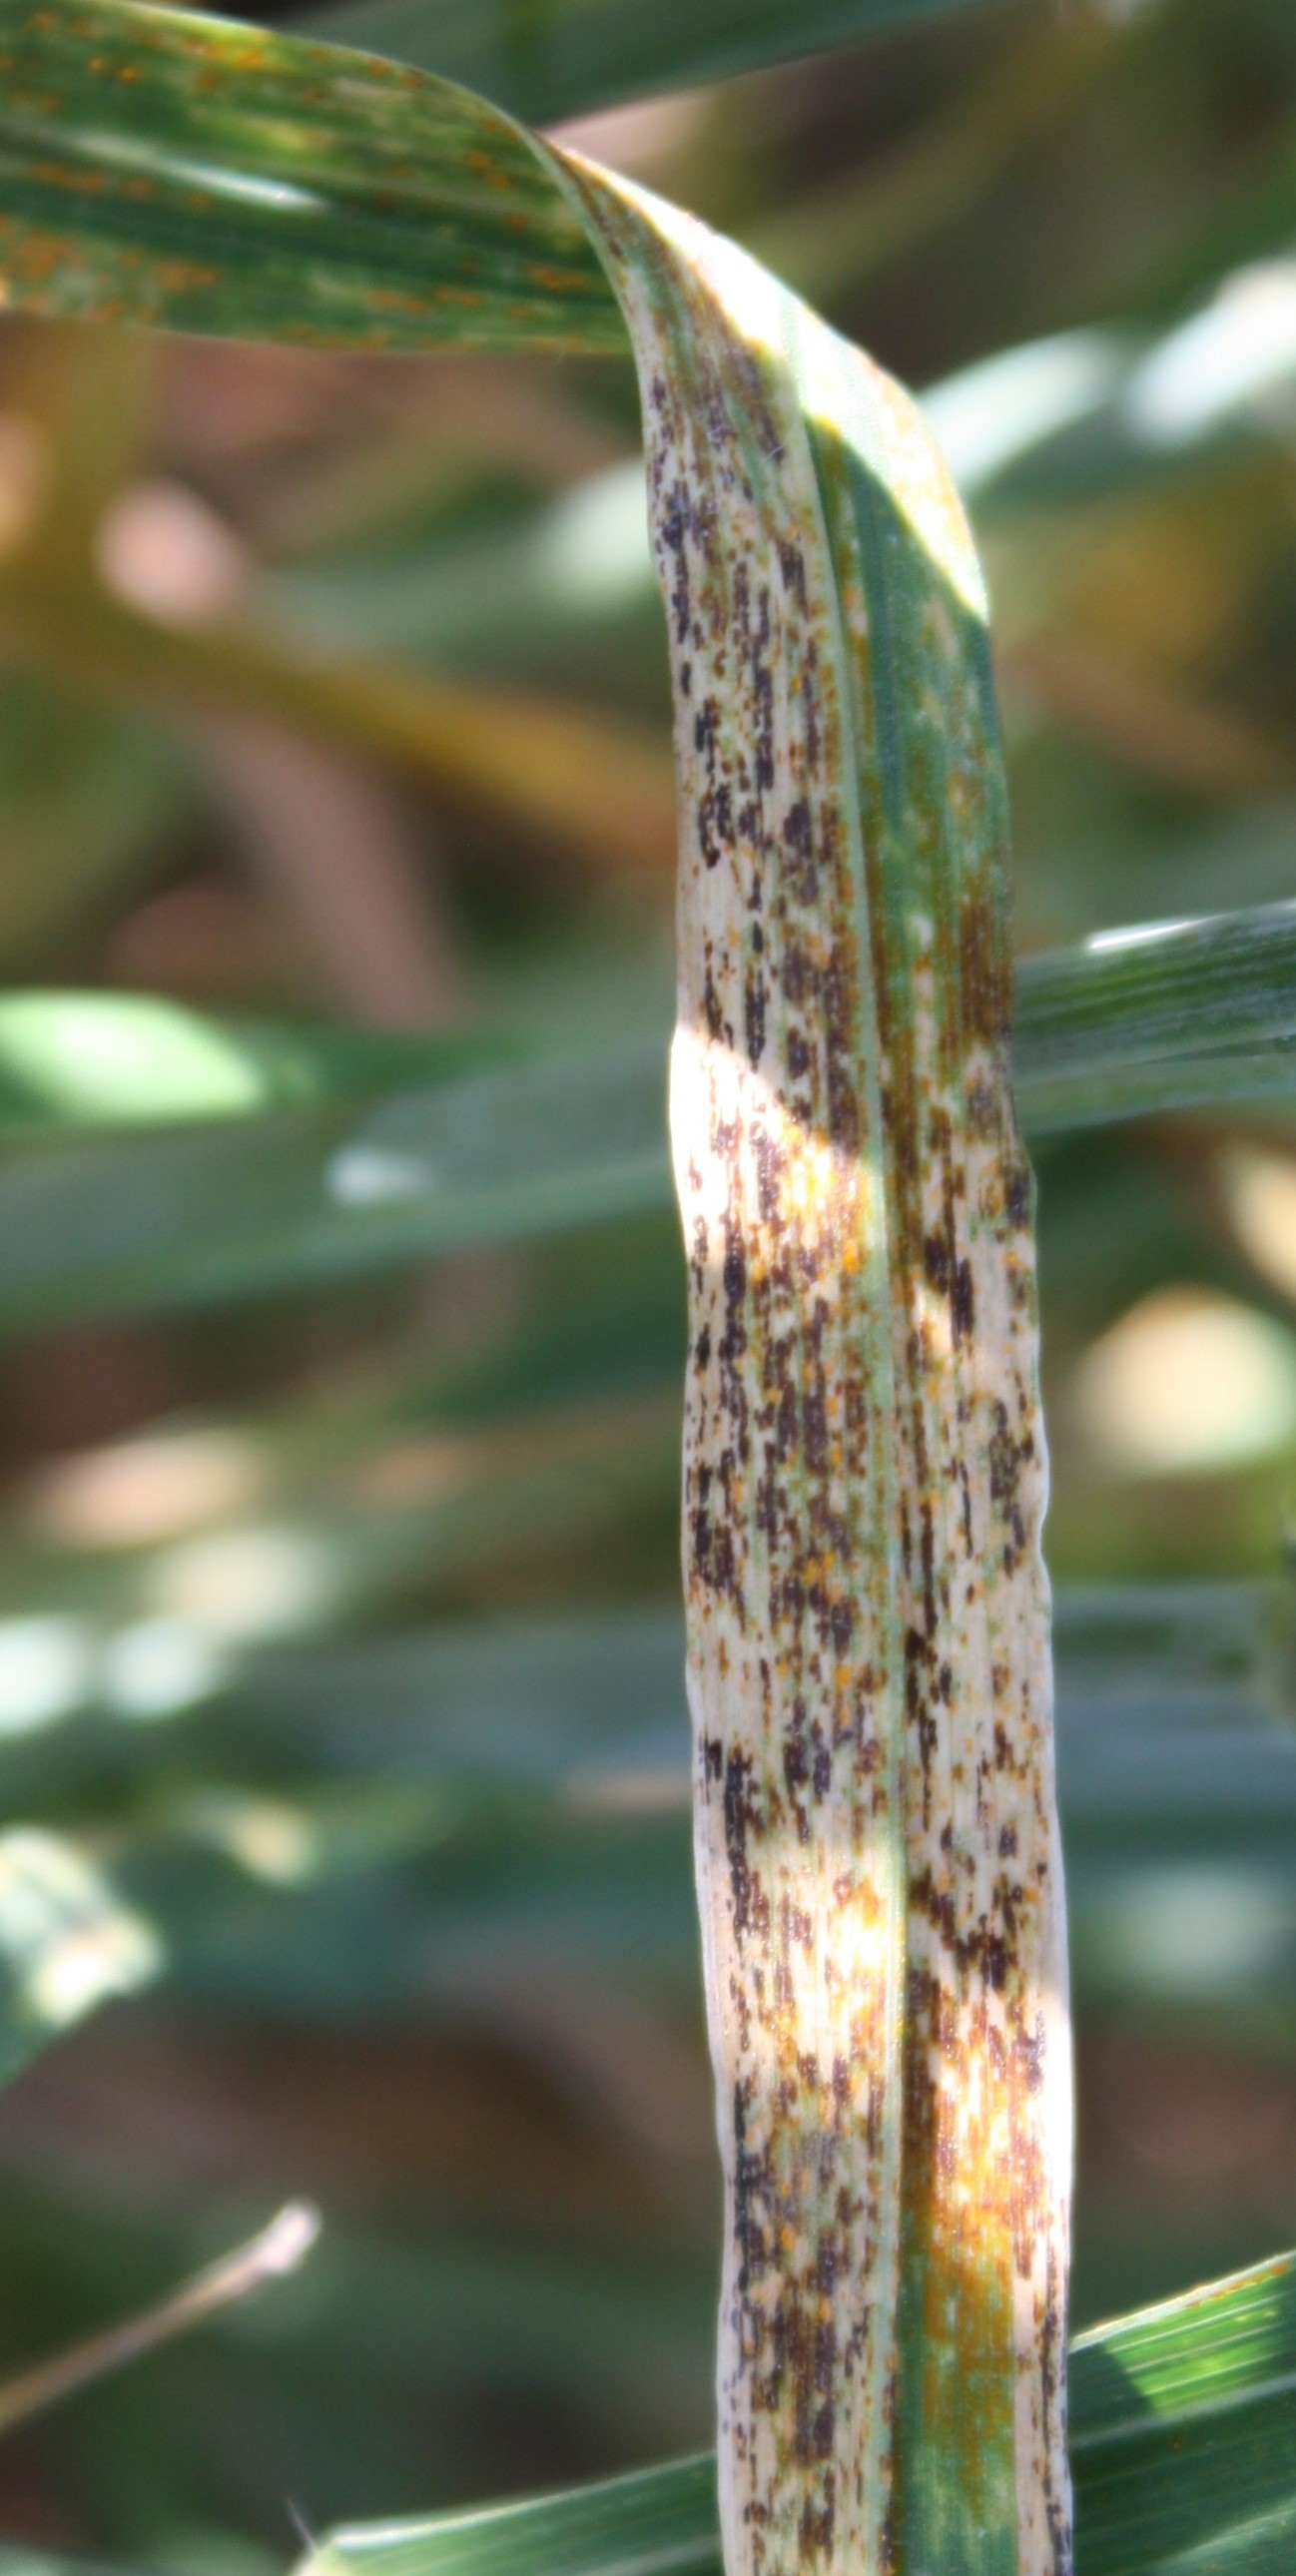Leaf Rust: (617, 600, 1134, 2348)
